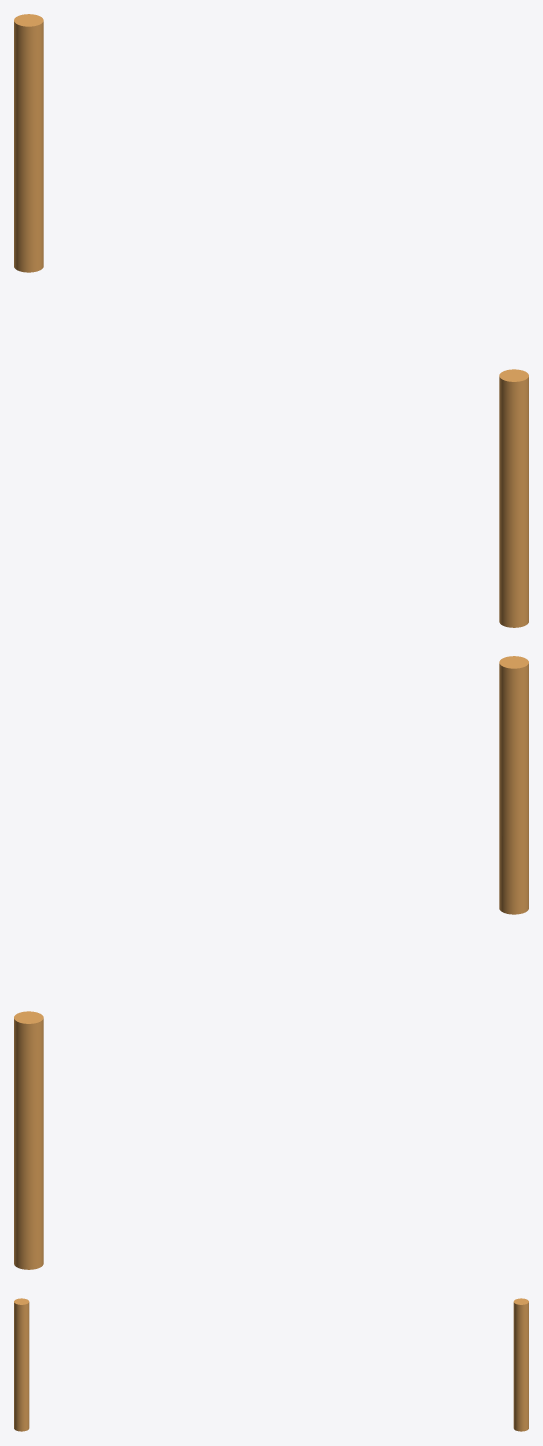
Rendered from CONTROL__STEERING__STEERING COMPONENTS__50mm dummy shafts.glb.
3 views of the same model, one above another, from view 1: azimuth 30°, elevation 25°; view 2: azimuth 150°, elevation 25°; view 3: azimuth 270°, elevation 25° (orthographic). The views are drawn at different scales.
Visible parts, largest first — view 1: Imported 19, Imported 18; view 2: Imported 19, Imported 18; view 3: Imported 18, Imported 19.
Boxes of the visible parts, box(x1,y1,x2,y2) form: Imported 19: box(14, 14, 43, 272); Imported 18: box(499, 369, 528, 627); Imported 19: box(14, 1011, 43, 1269); Imported 18: box(499, 656, 528, 914); Imported 18: box(14, 1298, 29, 1431); Imported 19: box(513, 1298, 528, 1431).
Size of the model in its own units: 0.05 by 0.4572 by 1.69.
